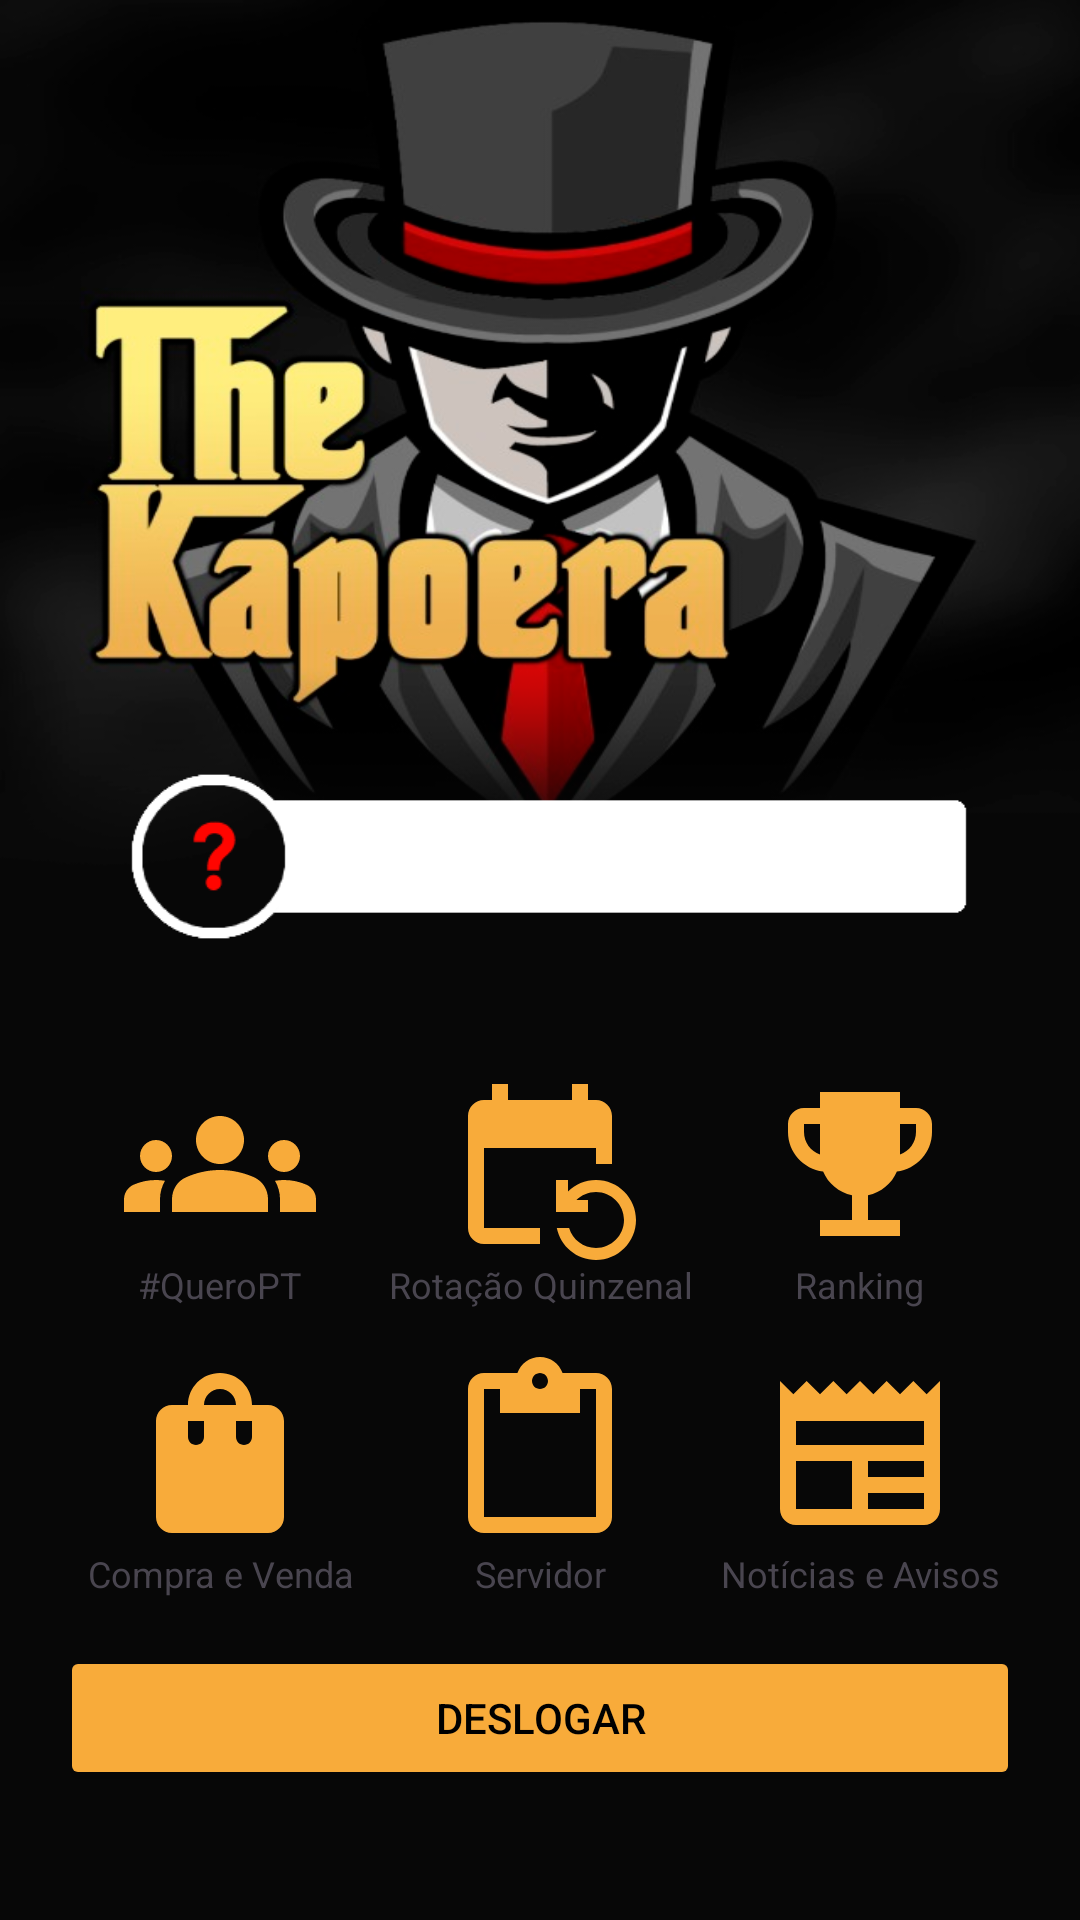

Icon bounding boxes for this 1080x1920 phone screenshot, format [x1, y1, x2, y2]:
content paste: [468, 1357, 612, 1533]
emoji events: [788, 1092, 932, 1236]
event repeat: [468, 1084, 636, 1260]
groups: [124, 1116, 316, 1212]
shopping bag: [156, 1373, 284, 1533]
